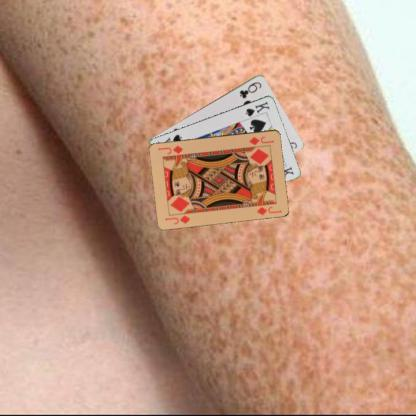6c: (237, 80, 263, 100)
Jd: (246, 134, 276, 146), (162, 213, 192, 225)
Ks: (243, 99, 271, 117)
